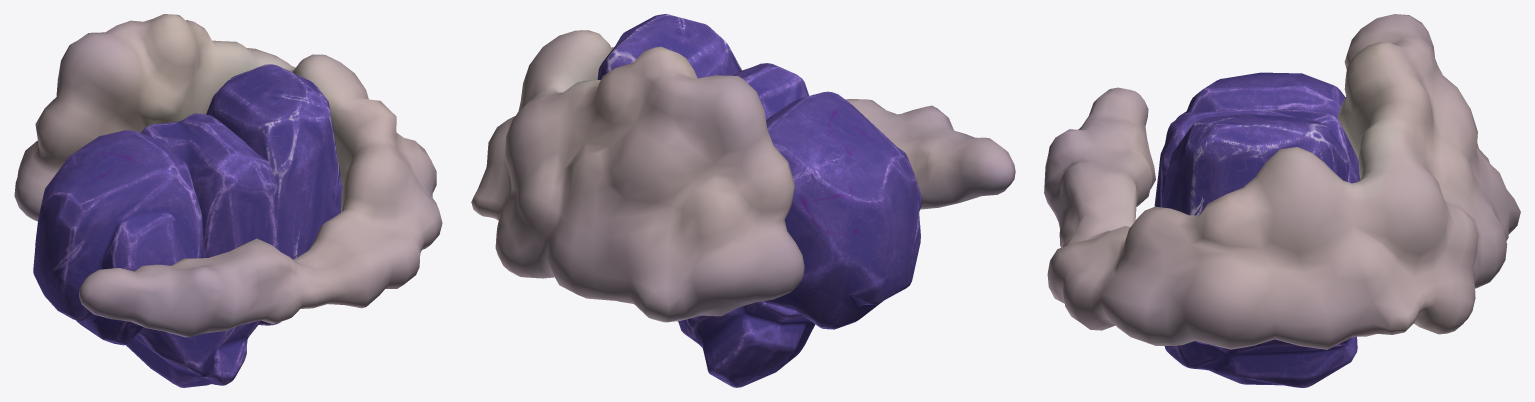
The model's file is Roca Dividida.glb.
3 views of the same model, side by side, from view 1: azimuth 30°, elevation 25°; view 2: azimuth 150°, elevation 25°; view 3: azimuth 270°, elevation 25° (orthographic). The views are drawn at different scales.
Parts seen in each view (by area): view 1: Nubes_low, Roca_1__low, Roca_2_low, Roca_3_low; view 2: Nubes_low, Roca_1__low, Roca_2_low, Roca_3_low; view 3: Nubes_low, Roca_3_low, Roca_2_low, Roca_1__low.
Boxes of the visible parts, <box> form: Nubes_low: <box>14,14,442,337</box>; Roca_1__low: <box>33,130,203,345</box>; Roca_2_low: <box>126,113,278,387</box>; Roca_3_low: <box>206,64,342,325</box>; Nubes_low: <box>471,30,1015,322</box>; Roca_1__low: <box>763,91,921,329</box>; Roca_2_low: <box>678,63,815,387</box>; Roca_3_low: <box>597,14,741,79</box>; Nubes_low: <box>1044,14,1520,349</box>; Roca_3_low: <box>1161,114,1348,347</box>; Roca_2_low: <box>1160,107,1358,387</box>; Roca_1__low: <box>1154,72,1360,207</box>.
Bounding box in the file's own units: 1.09 × 0.8376 × 0.9984.
4 materials, 4 textured.
